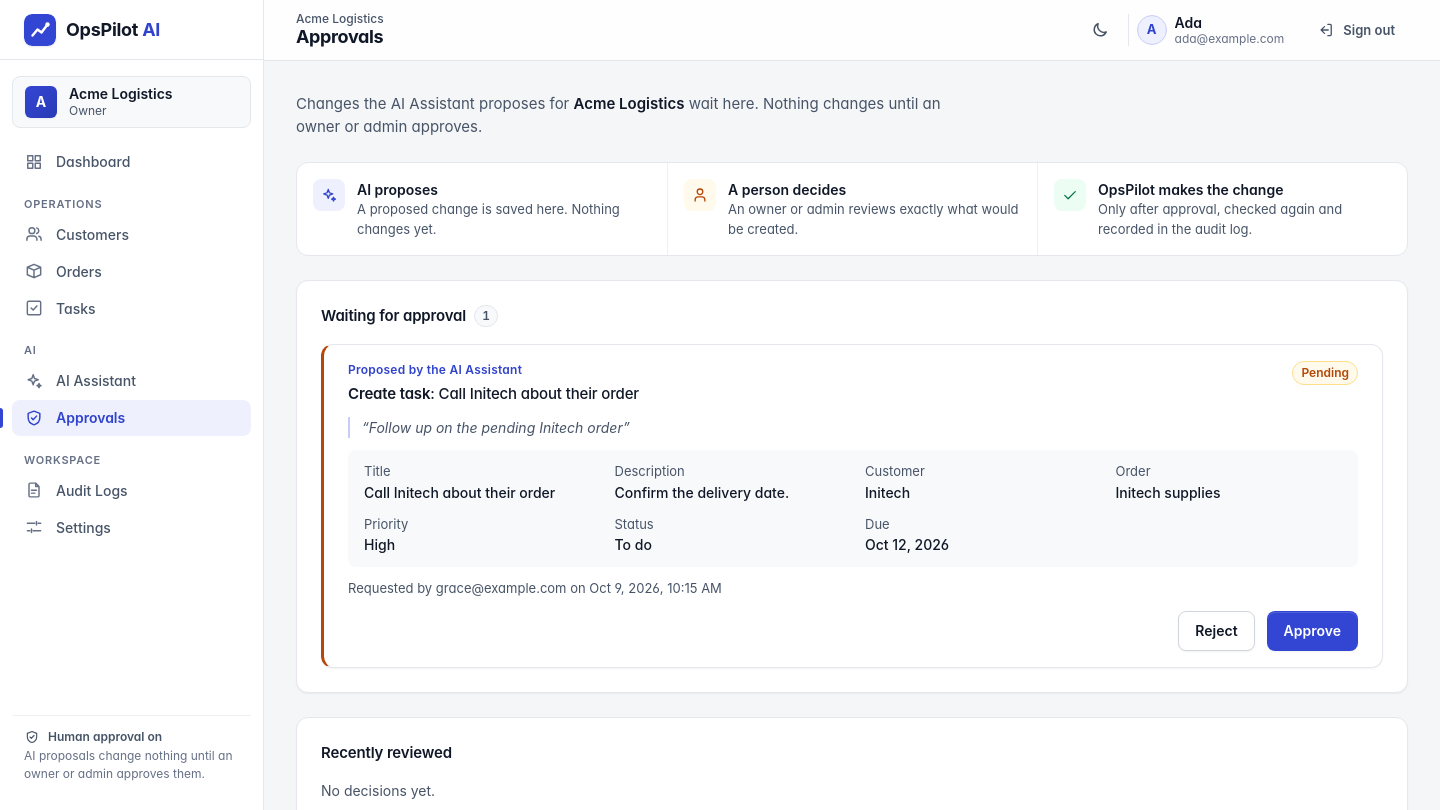
Scenario: Approving › says so when the approved change could not be made
Expected: the heading "Approvals" is shown, [296,26,384,49]
Click the button "Approve": (1312, 630) [1267,610,1358,650]
(page scrolled)
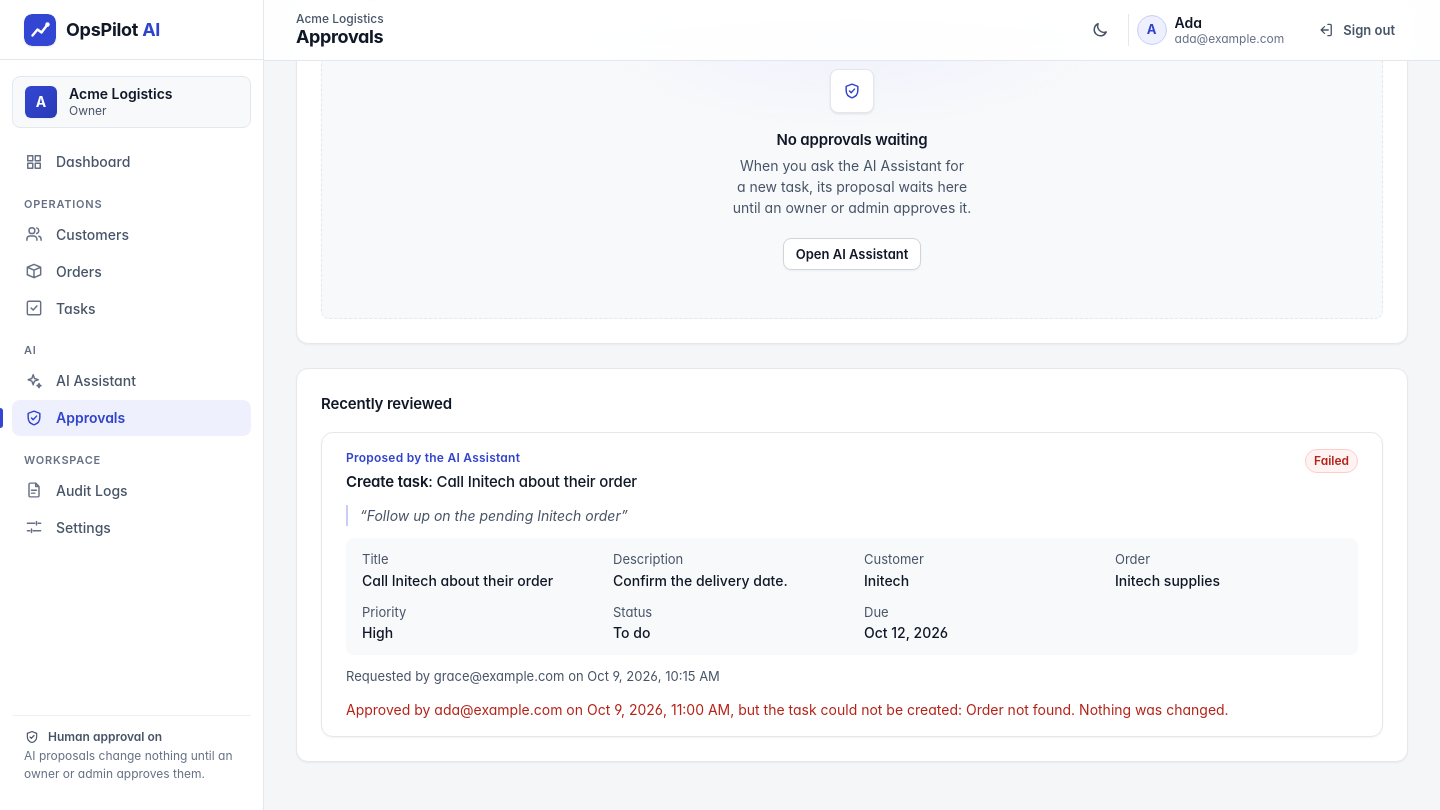
Now the text "Failed" is shown, box [1305,448,1358,472]
